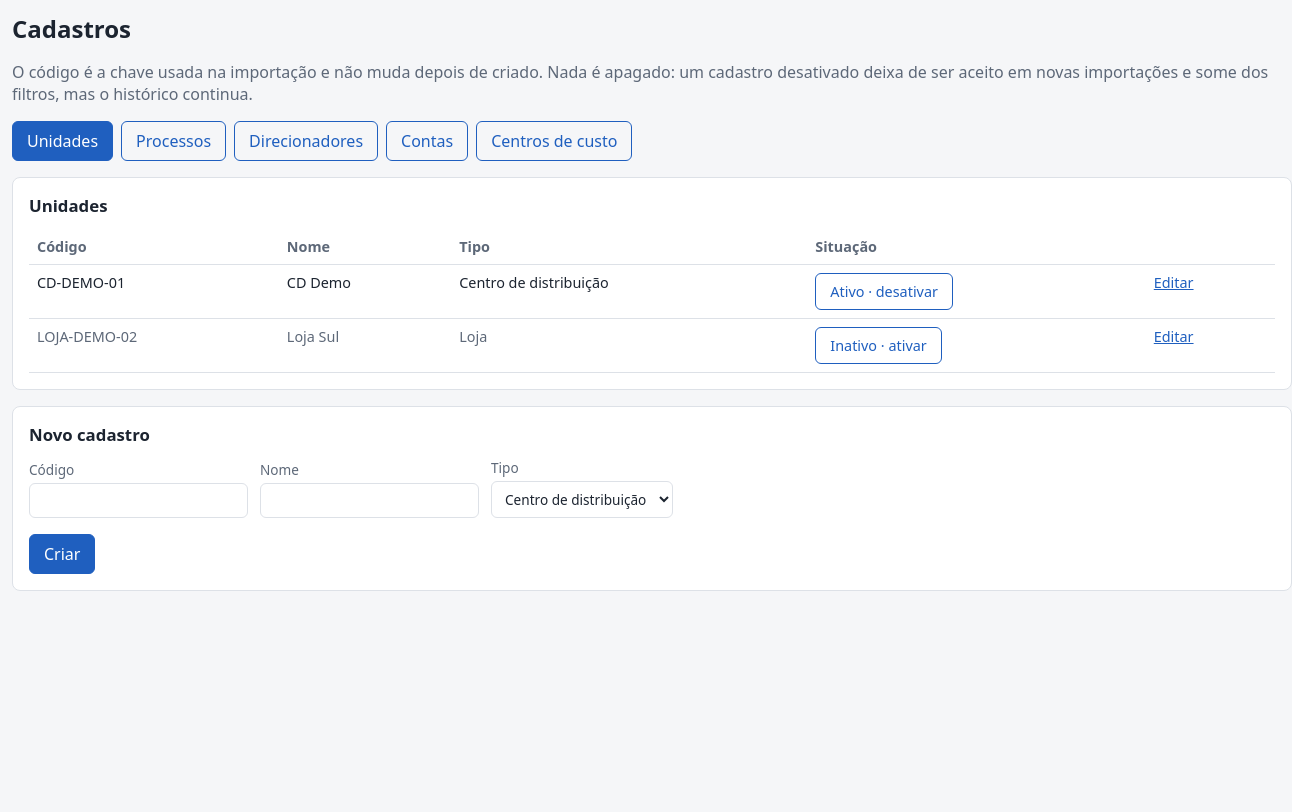
Test case: lista, cria e mostra o motivo quando o direcionador está em uso
Expected: the text "Loja" is shown, [451,318,807,372]
Expected: the button "Inativo · ativar" is shown, [815,327,942,364]
Type "LOJA-DEMO-03" into the field labelled "Código".
click(138, 500); type("LOJA-DEMO-03")  # box [29,483,248,518]
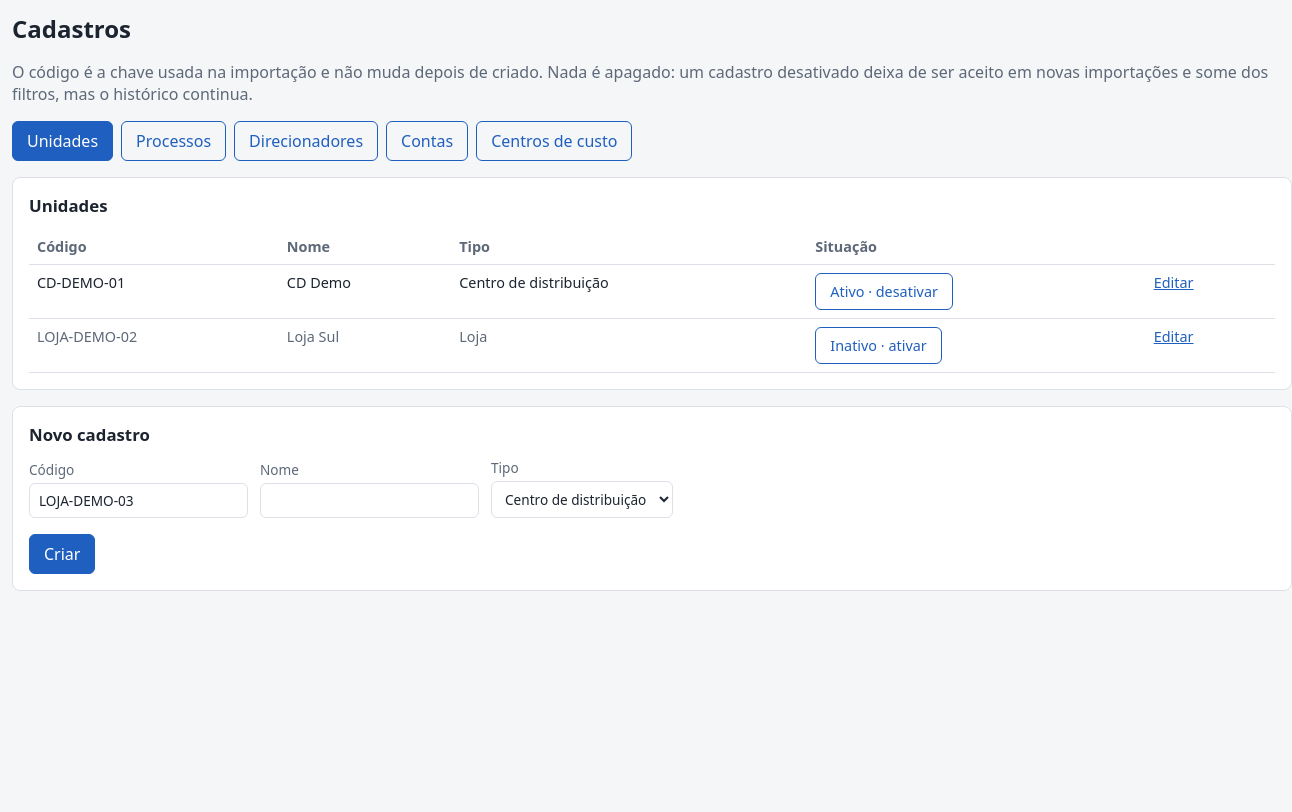
Type "Loja Leste" into the field labelled "Nome".
click(370, 500); type("Loja Leste")  # box [260,483,479,518]
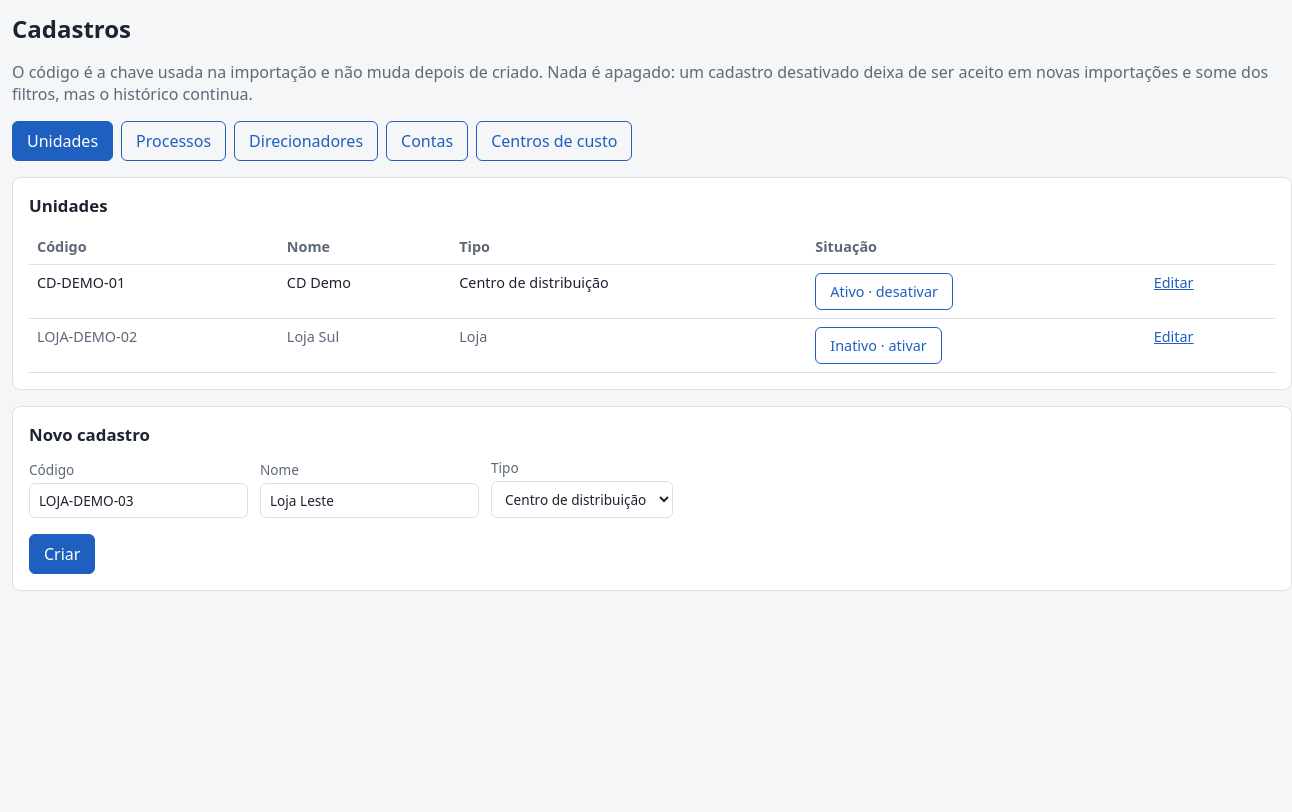
Select "Loja" in the dropdown labelled "Tipo" at (582, 500), box [491,481,673,518]
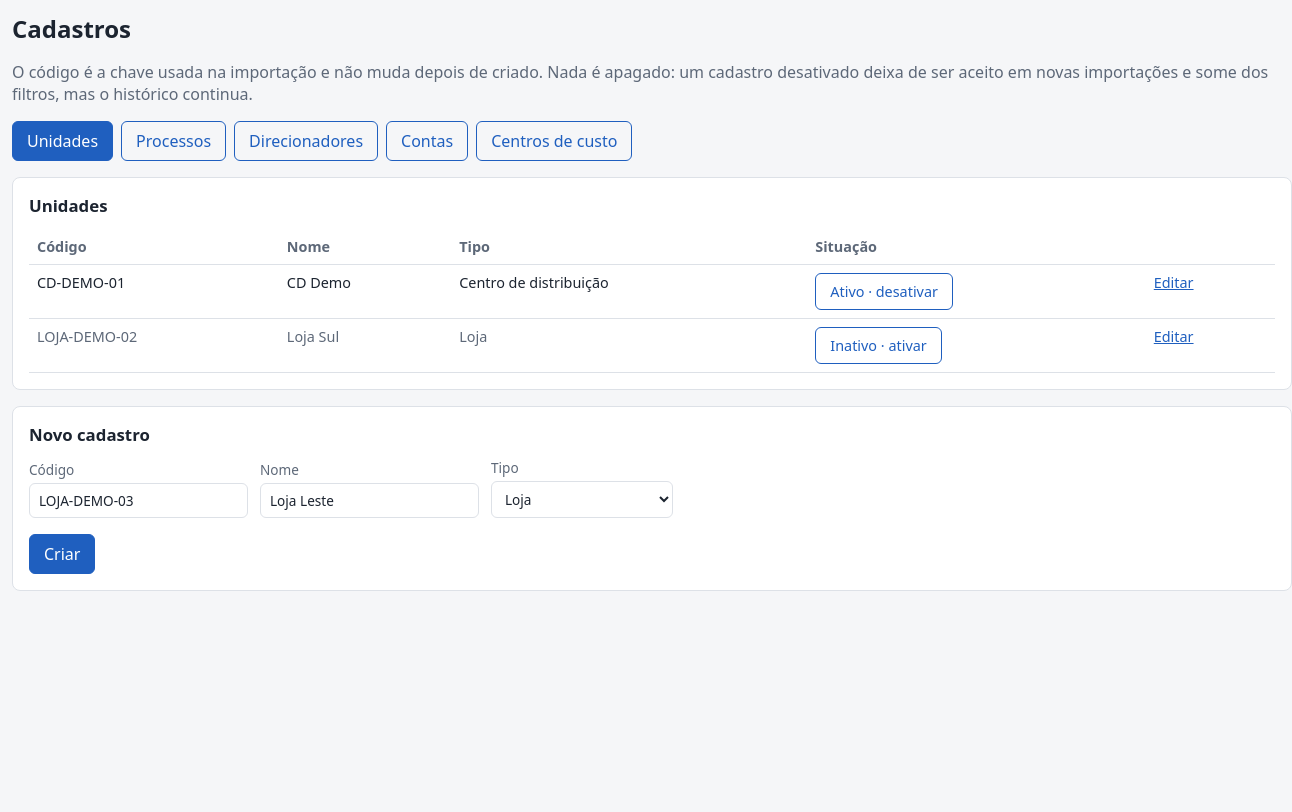
Click the button "Criar".
click(62, 554)  # box [29,534,95,574]
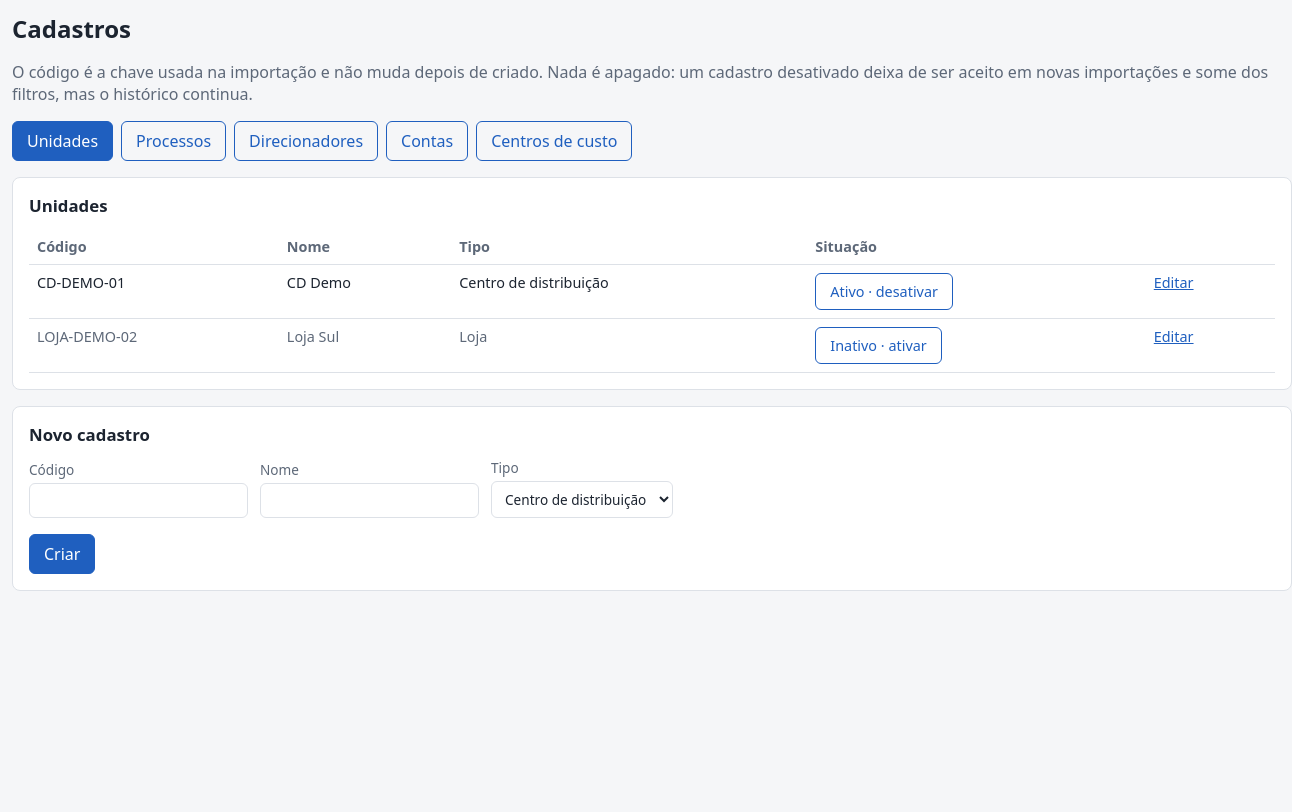
Click the button "Direcionadores".
click(306, 141)  # box [234,121,378,161]
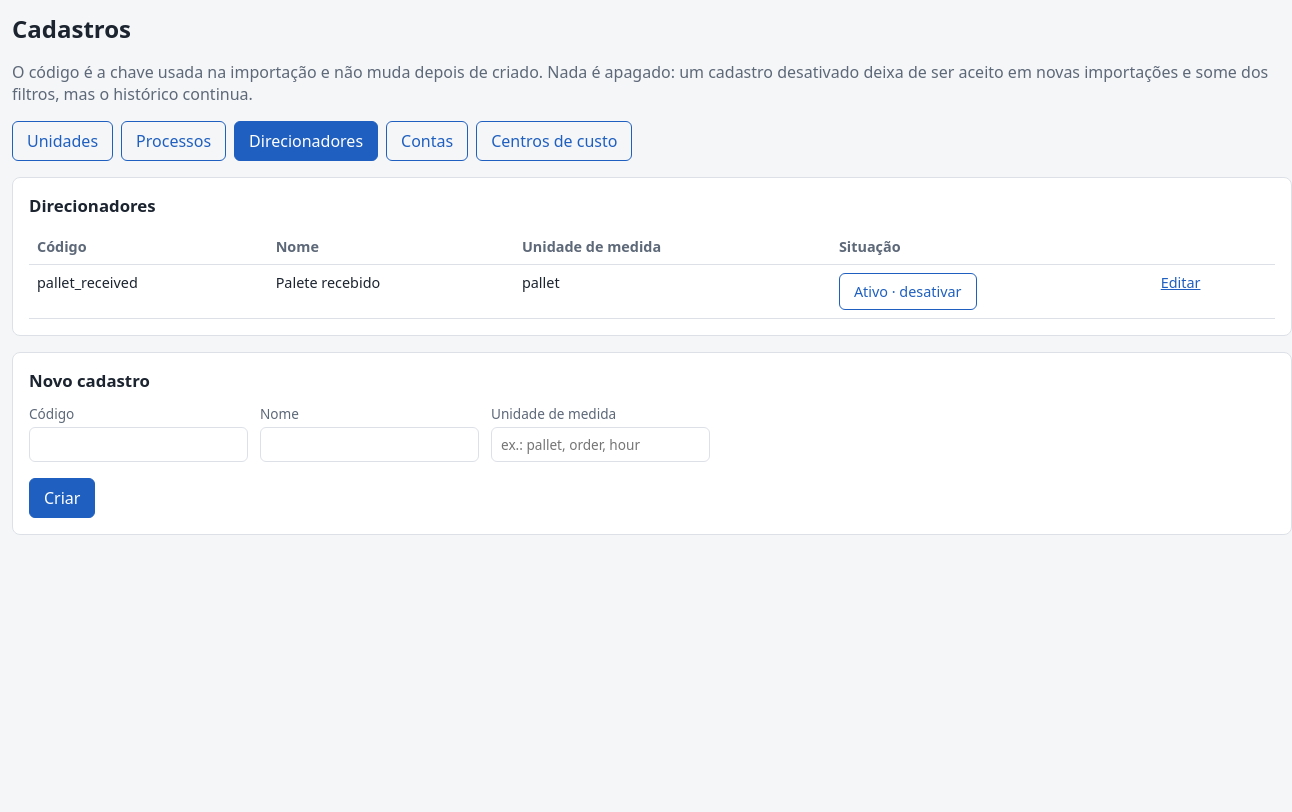
Click the button "Ativo · desativar".
click(908, 292)  # box [839,273,976,310]
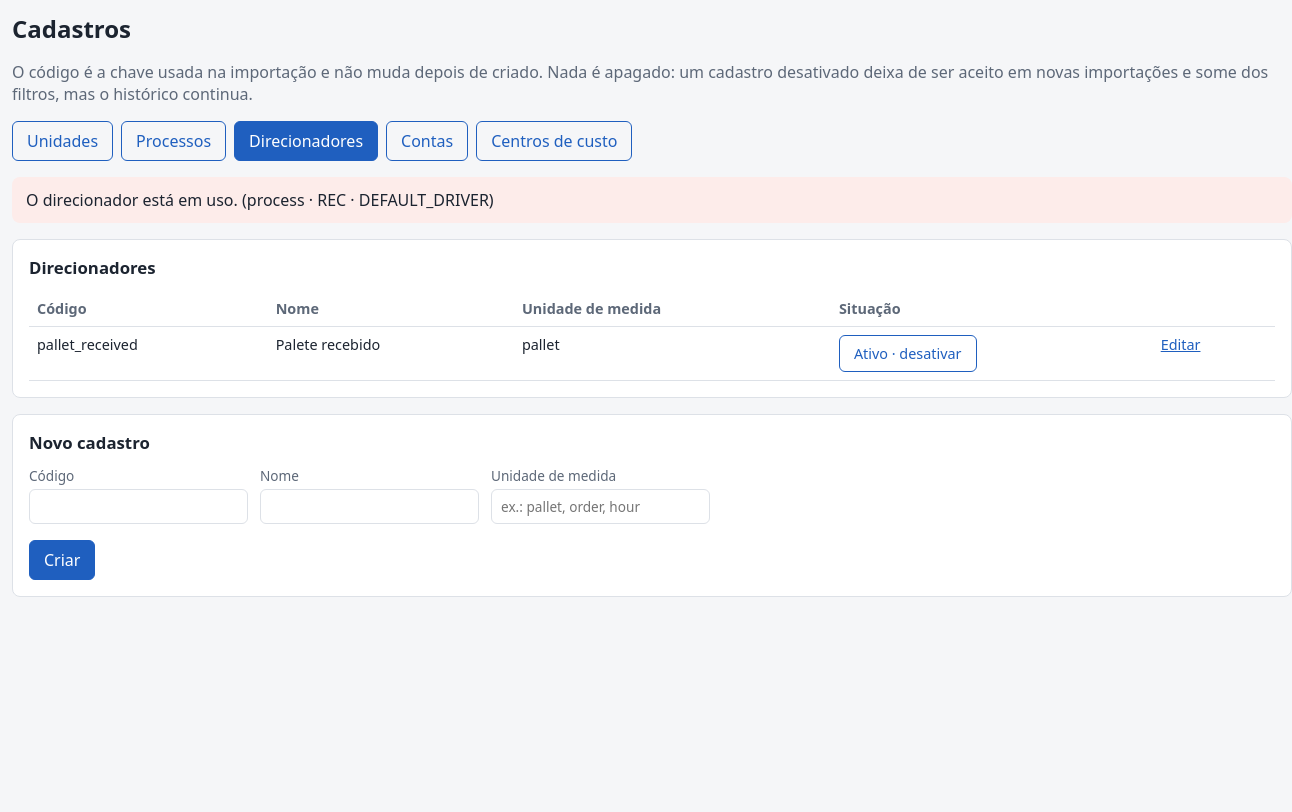
Expected: the message shows "process · REC · DEFAULT_DRIVER", [26,189,494,211]
